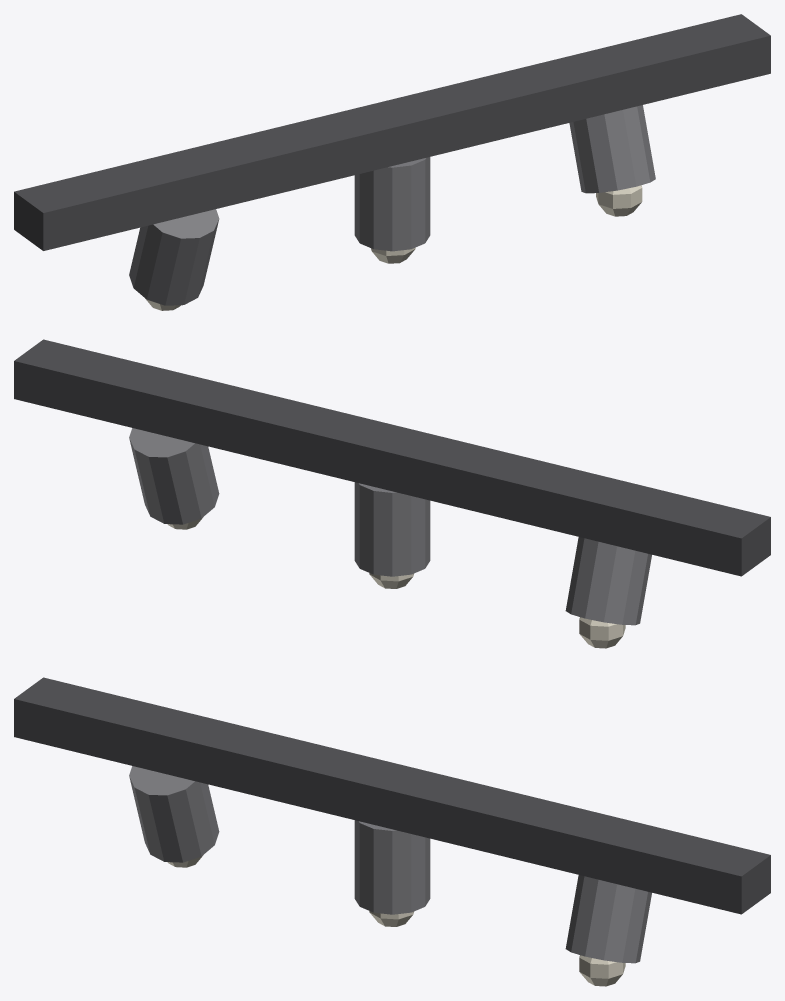
Rendered from ilu_trilho_coz.glb.
3 renders of one model, top to bottom at view 1: azimuth 30°, elevation 25°; view 2: azimuth 150°, elevation 25°; view 3: azimuth 330°, elevation 25°, orthographic.
Parts seen in each view (by area): view 1: ILU_Trilho_Coz_v01; view 2: ILU_Trilho_Coz_v01; view 3: ILU_Trilho_Coz_v01.
Boxes of the visible parts, box(x1,y1,x2,y2) form: ILU_Trilho_Coz_v01: box(14, 14, 770, 310); ILU_Trilho_Coz_v01: box(14, 339, 770, 648); ILU_Trilho_Coz_v01: box(14, 677, 770, 986).
Bounding box in the file's own units: 1 × 0.195 × 0.1222.
